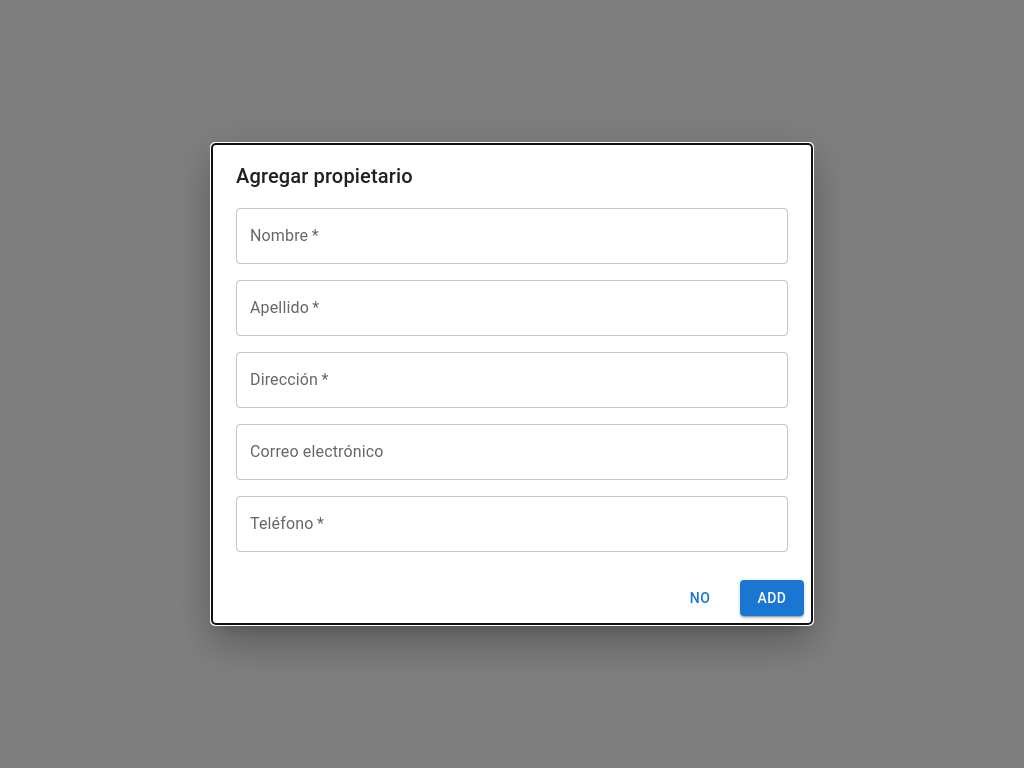
Test: AddOwnerDialog › shows the backend message when the email is already registered
This screenshot has width=1024, height=768.
Type "Ana" into the field labelled "Nombre *" at (512, 236), box [236,208,788,264]
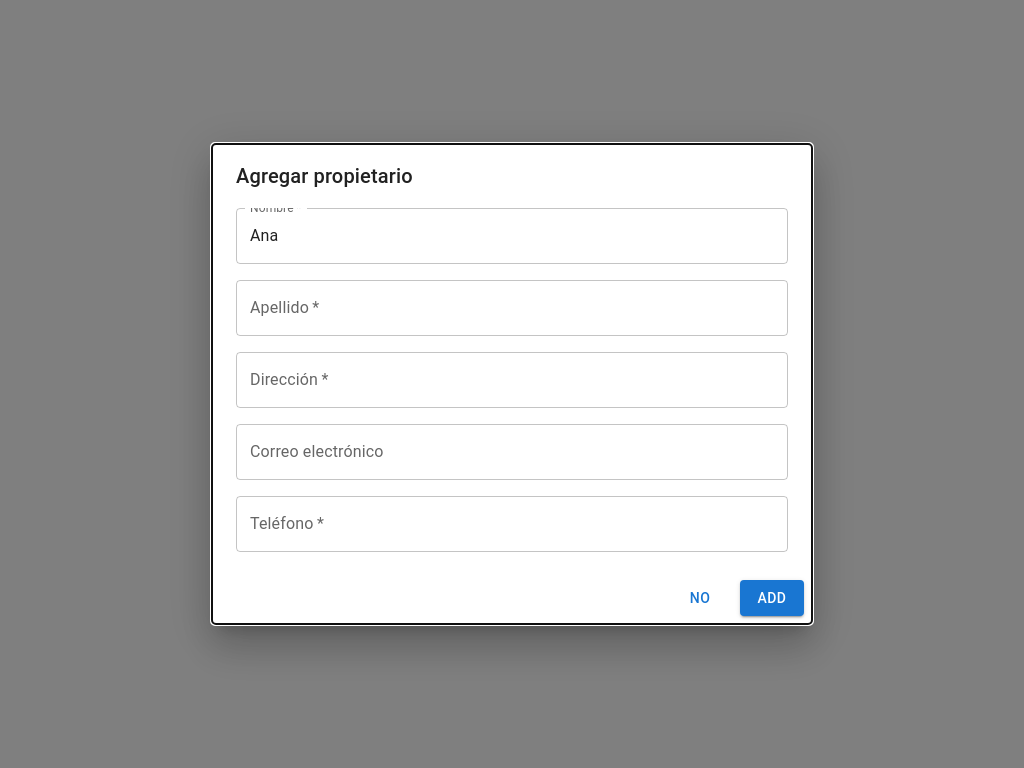
Type "García" into the field labelled "Apellido *" at (512, 308), box [236,280,788,336]
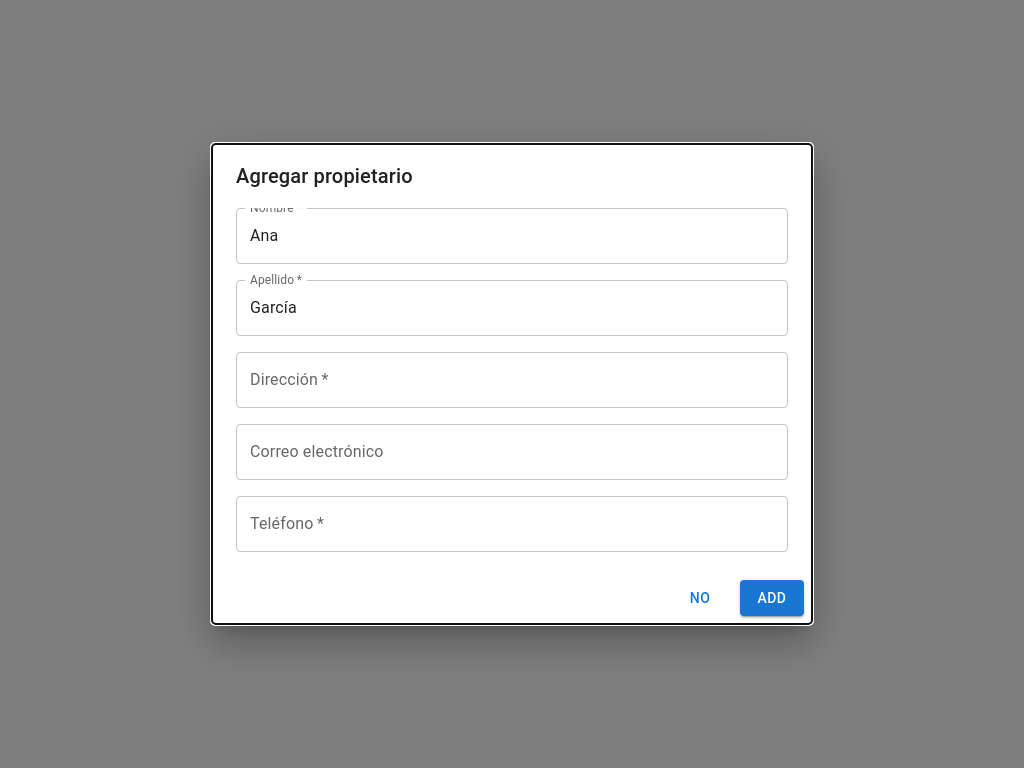
Type "Calle 1" into the field labelled "Dirección *" at (512, 380), box [236,352,788,408]
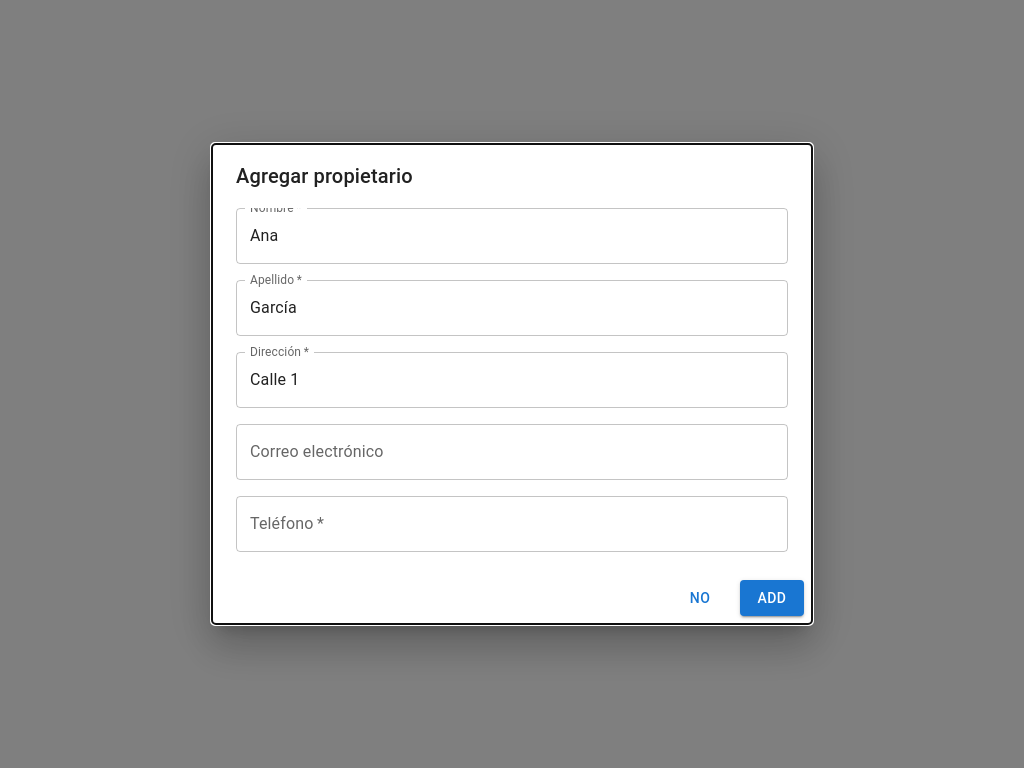
Type "ana@example.com" into the field labelled "Correo electrónico" at (512, 452), box [236,424,788,480]
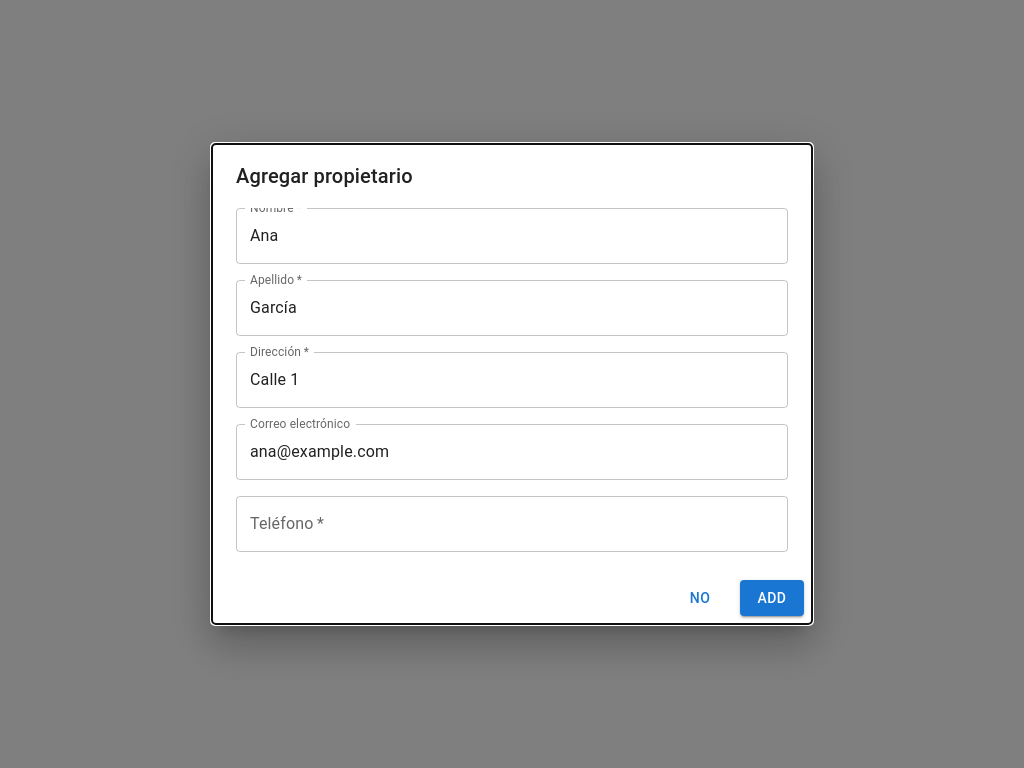
Type "123456789" into the field labelled "Teléfono *" at (512, 524), box [236,496,788,552]
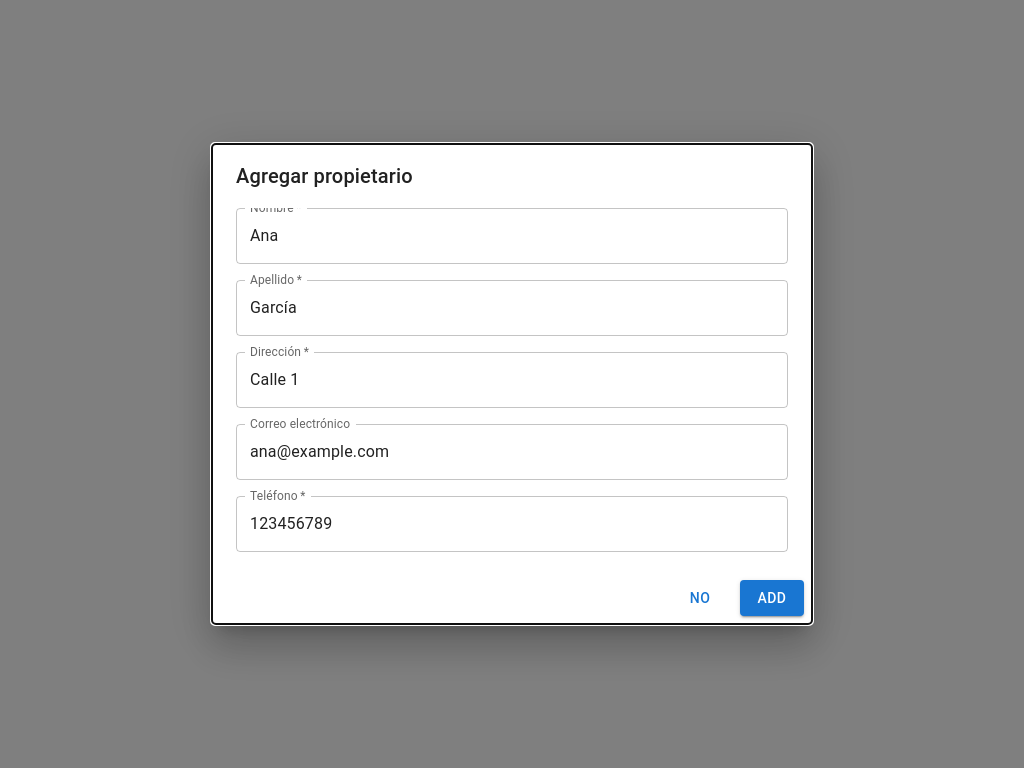
Click the button "Add" at (772, 598), box [740,580,804,616]
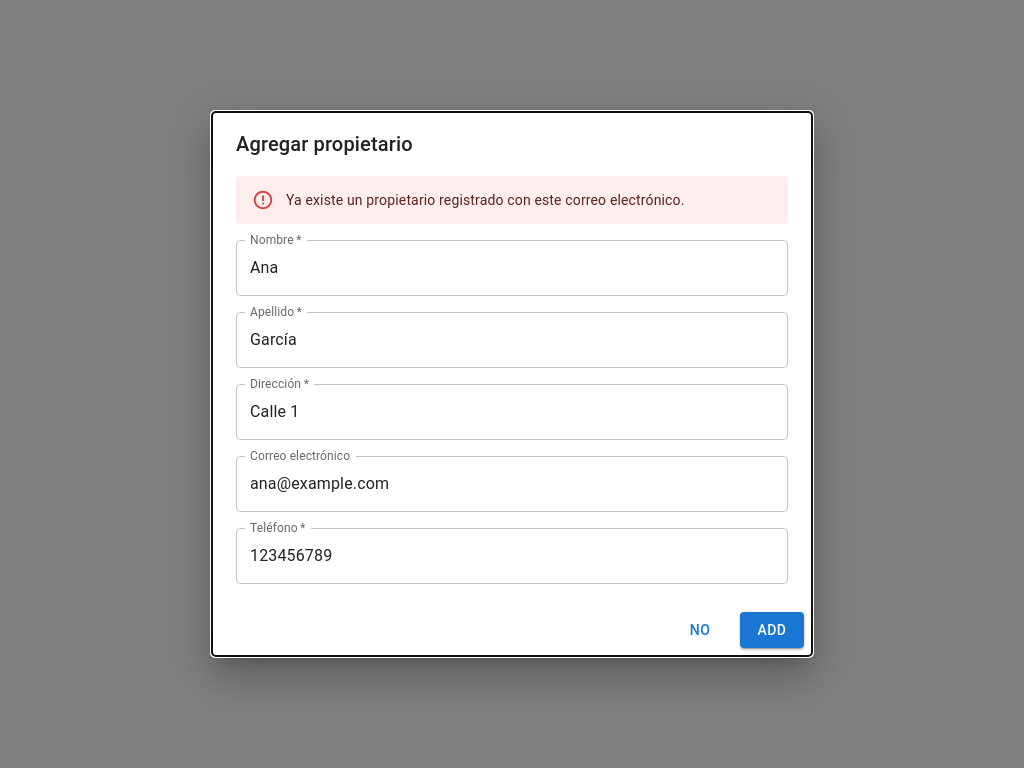
Expected: the message reads "Ya existe un propietario registrado con este correo electrónico.", [286,192,685,208]
